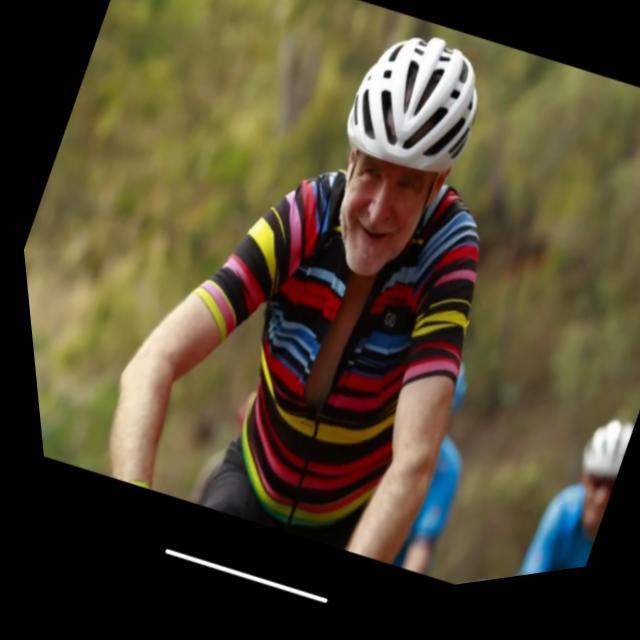Helmet: (314, 16, 496, 288)
